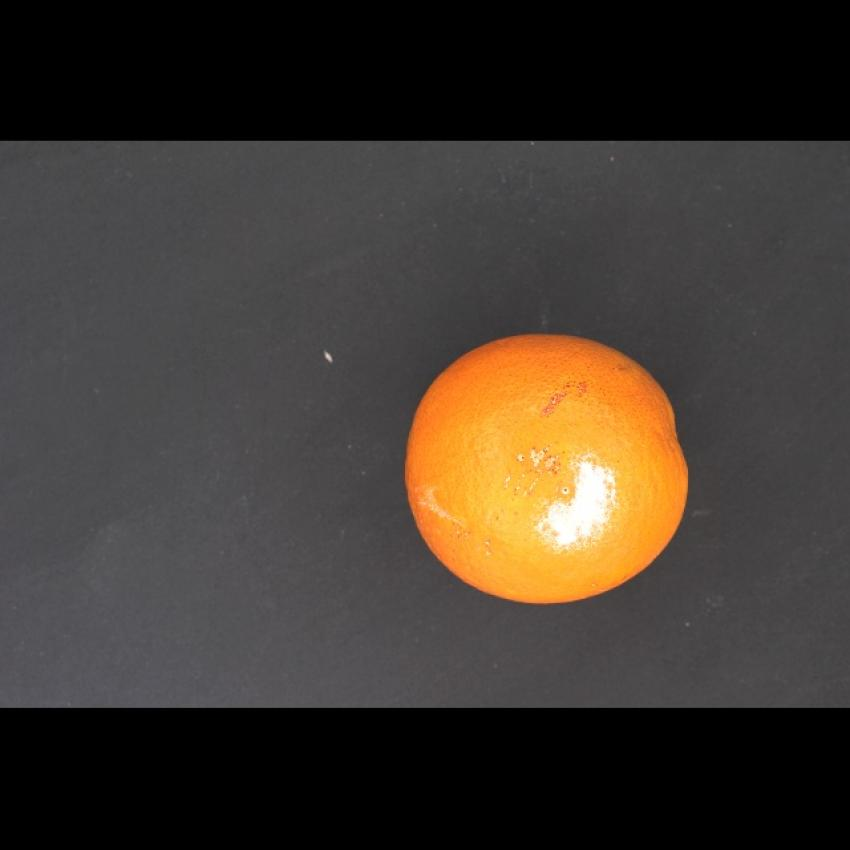Mal estado: (398, 325, 700, 611)
